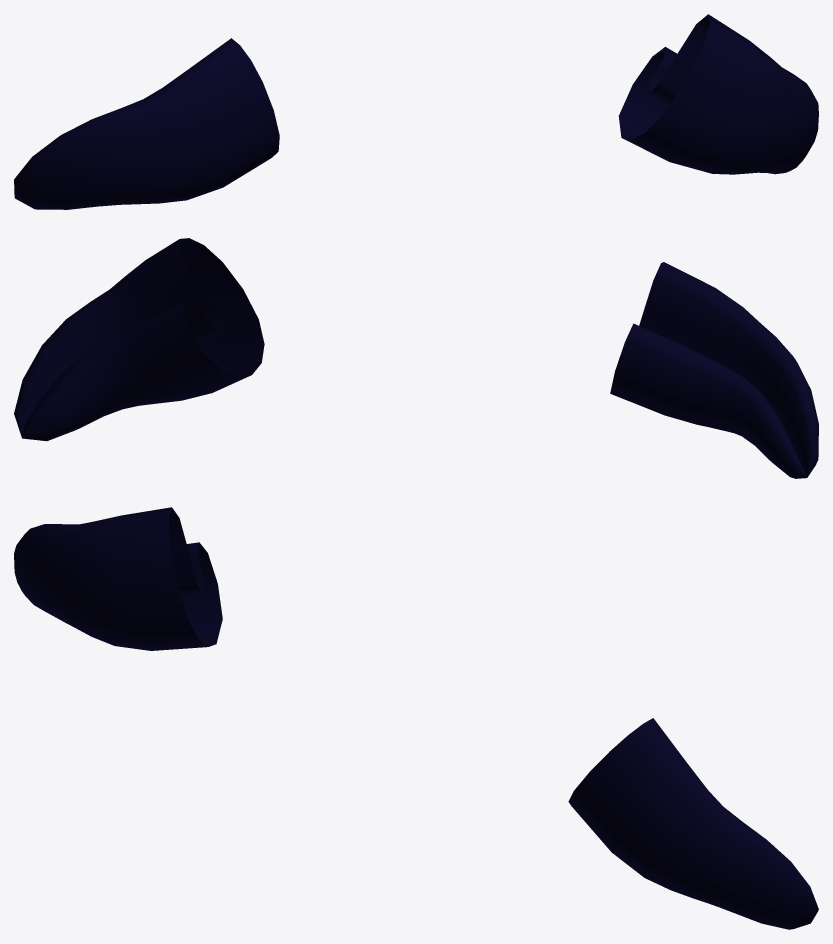
Rendered from doremy_ears.glb.
3 views of the same model, one above another, from view 1: azimuth 30°, elevation 25°; view 2: azimuth 150°, elevation 25°; view 3: azimuth 330°, elevation 25° (orthographic).
Visible parts, largest first — view 1: doremy_ears; view 2: doremy_ears; view 3: doremy_ears.
Part boxes in pixels (x1,y1,x2,y2): doremy_ears: [14, 14, 818, 209]; doremy_ears: [14, 238, 818, 478]; doremy_ears: [14, 507, 818, 929].
Size of the model in its own units: 1.66 by 0.5918 by 0.2106.
